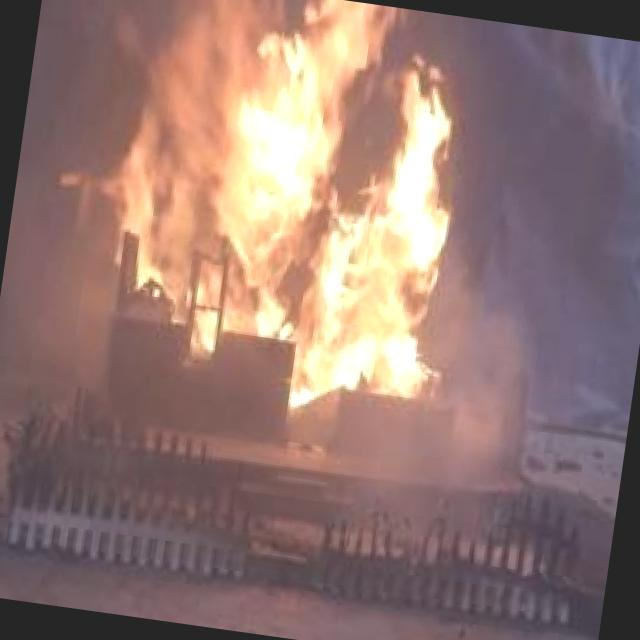fire: (52, 0, 510, 431)
